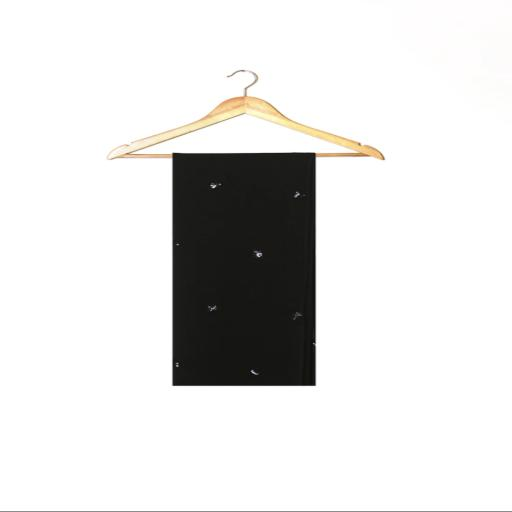dupatta: (147, 143, 329, 397)
